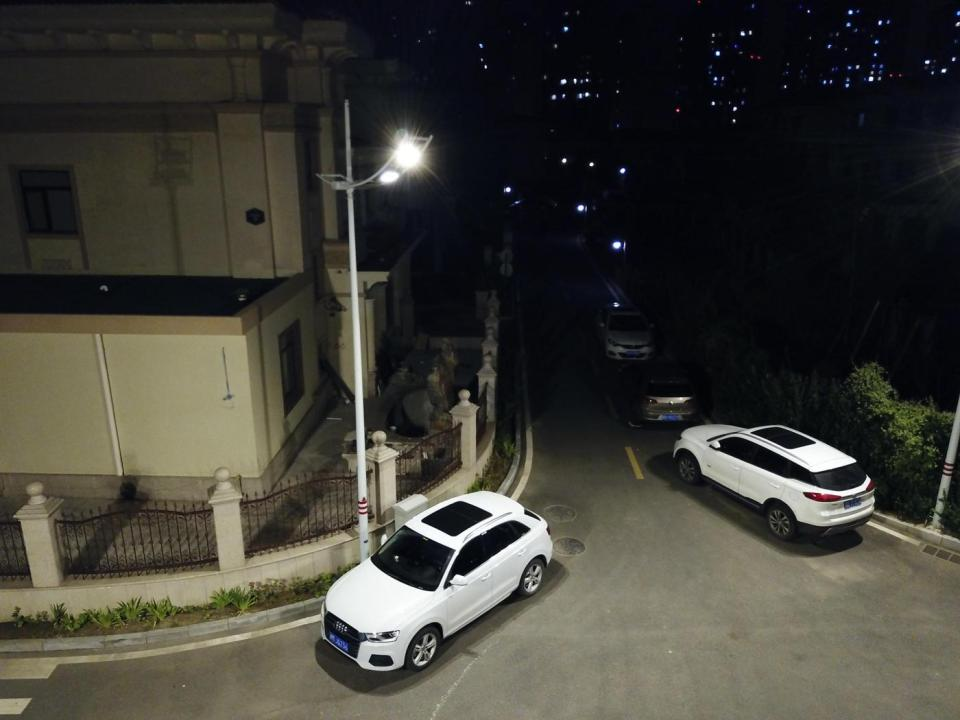car: (319, 490, 555, 674), (673, 422, 877, 540), (618, 358, 699, 426), (598, 300, 658, 358)
